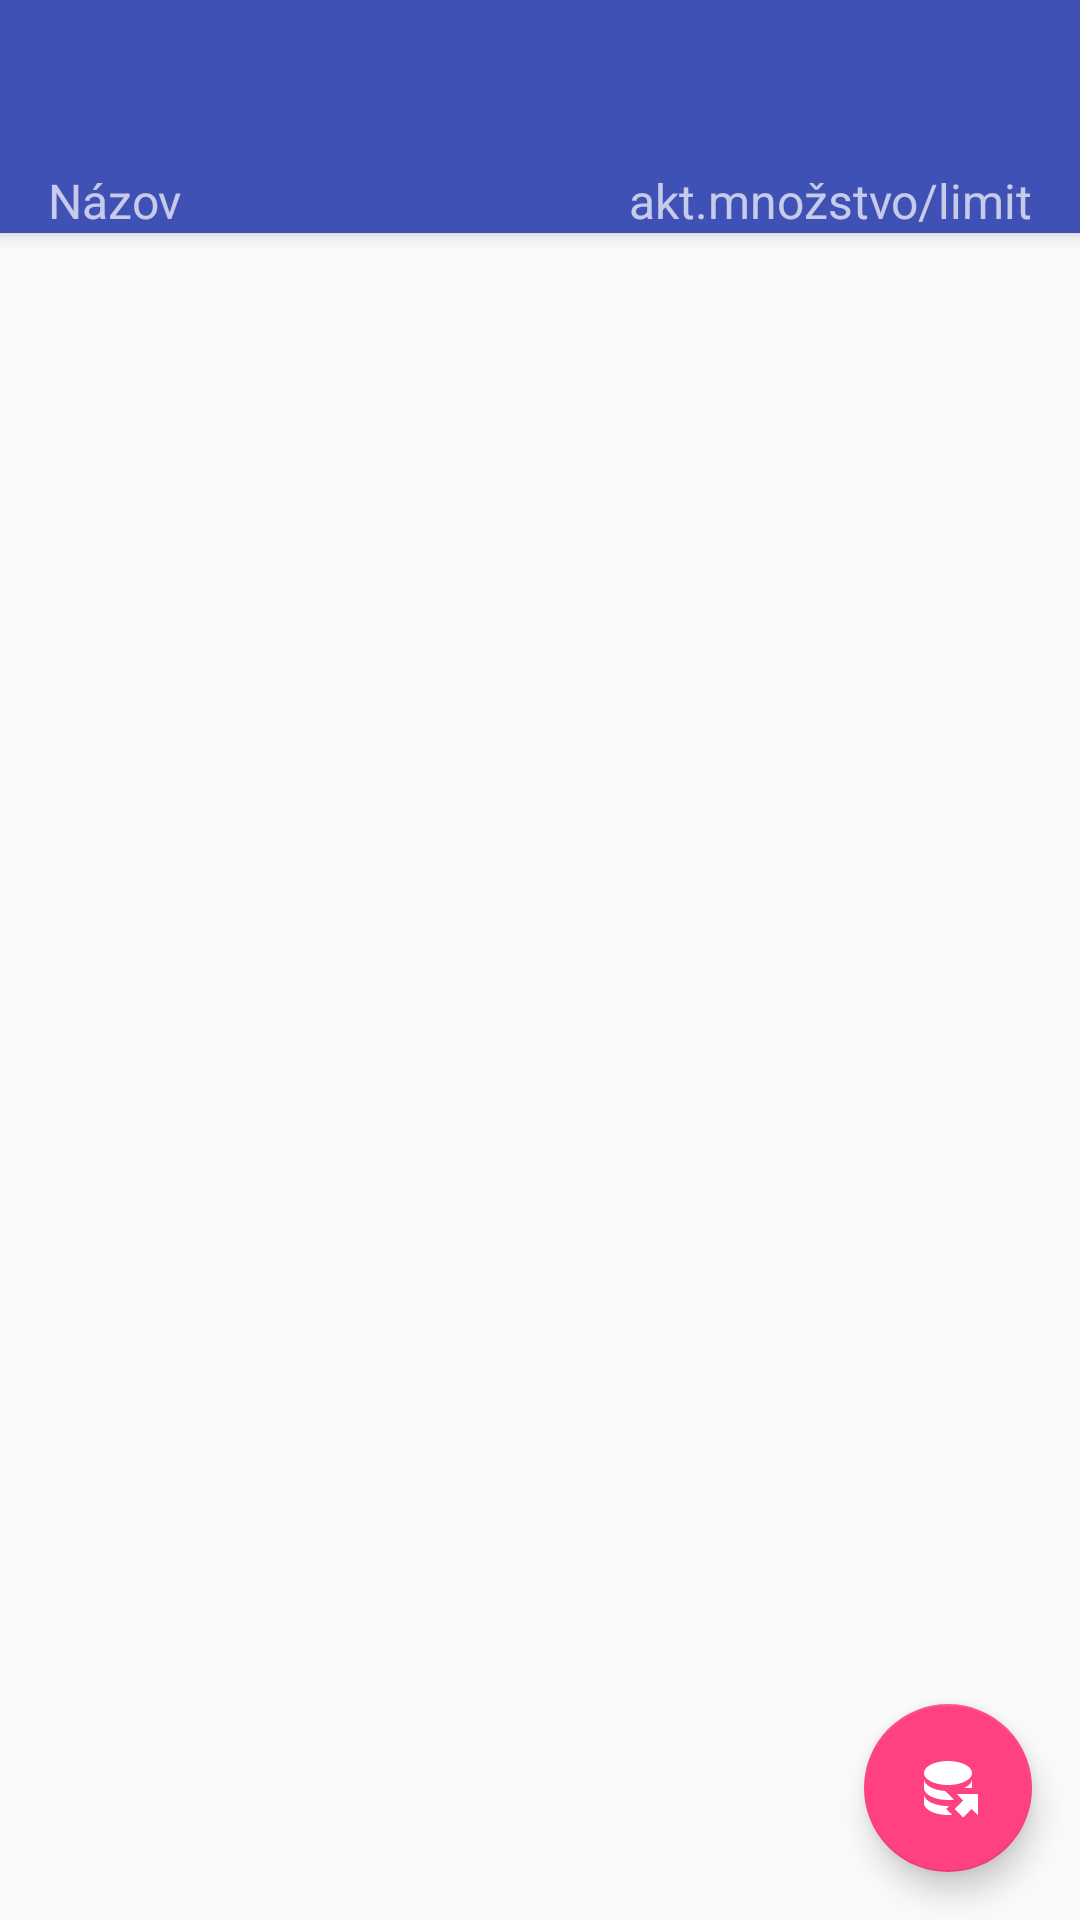

Locate icon controls on the screen. Image size 1080w x 1920h, boxes as (x1, y1, x2, y2).
export: (864, 1704, 1032, 1872)
